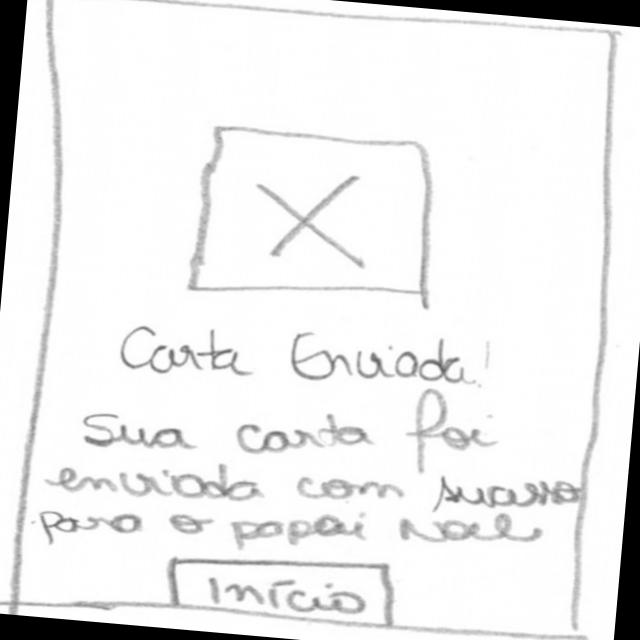button: (158, 545, 410, 629)
container: (1, 1, 633, 640)
image: (187, 121, 452, 316)
label: (99, 301, 503, 403)
textbox: (32, 361, 585, 588)
